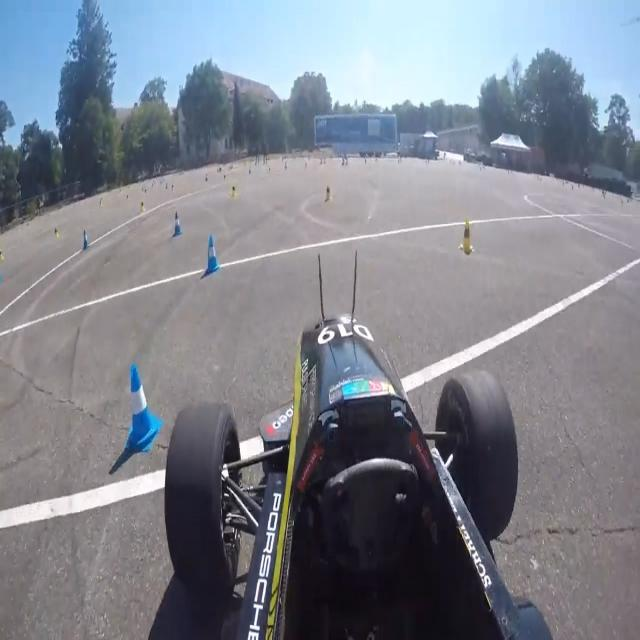blue_cone: (125, 364, 163, 454), (206, 235, 220, 274), (172, 211, 182, 237), (82, 229, 90, 250)
yellow_cone: (459, 219, 475, 254)
